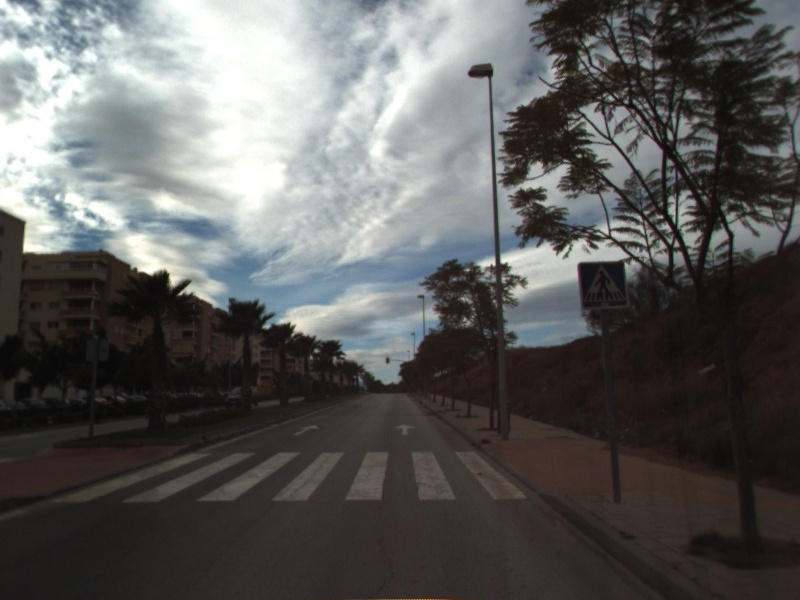STRAIGHT: (291, 422, 321, 438), (393, 422, 417, 437)
